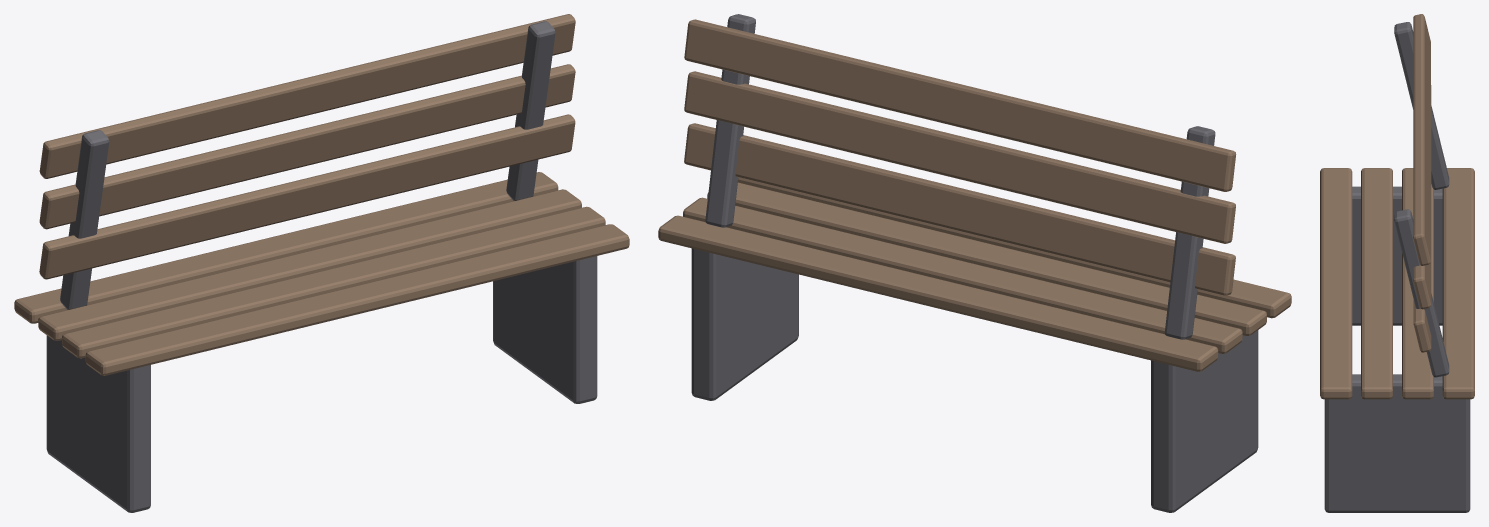
File: bench.glb
3 renders of one model, left to right at view 1: azimuth 30°, elevation 25°; view 2: azimuth 150°, elevation 25°; view 3: azimuth 270°, elevation 25°, orthographic. The views are drawn at different scales.
Visible parts, largest first — view 1: Cube.007, Cube.004, Cube.005, Cube.006, Cube, Cube.001, Cube.002, Cube.003, Cube.008; view 2: Cube.007, Cube.006, Cube.005, Cube.004, Cube.003, Cube.001, Cube.002, Cube.008, Cube; view 3: Cube.007, Cube, Cube.001, Cube.003, Cube.006, Cube.008, Cube.002, Cube.005, Cube.004.
Part boxes in pixels (x1,y1,x2,y2): Cube.007: (46, 256, 597, 512); Cube.004: (39, 114, 575, 279); Cube.005: (39, 64, 575, 229); Cube.006: (39, 14, 575, 178); Cube: (85, 224, 629, 375); Cube.001: (62, 206, 605, 358); Cube.002: (38, 189, 581, 340); Cube.003: (14, 172, 558, 323); Cube.008: (60, 21, 555, 309); Cube.007: (691, 248, 1258, 512); Cube.006: (684, 19, 1236, 191); Cube.005: (684, 71, 1235, 243); Cube.004: (684, 123, 1235, 295); Cube.003: (658, 215, 1218, 371); Cube.001: (707, 182, 1266, 335); Cube.002: (683, 197, 1242, 353); Cube.008: (705, 14, 1215, 339); Cube: (738, 177, 1291, 318); Cube.007: (1324, 186, 1470, 512); Cube: (1320, 168, 1352, 399); Cube.001: (1361, 168, 1392, 399); Cube.003: (1442, 168, 1474, 399); Cube.006: (1413, 14, 1430, 265); Cube.008: (1394, 22, 1449, 377); Cube.002: (1402, 168, 1433, 399); Cube.005: (1413, 85, 1431, 309); Cube.004: (1413, 300, 1431, 352).
Bounding box in the file's own units: 1.8 × 1.12 × 0.53.
